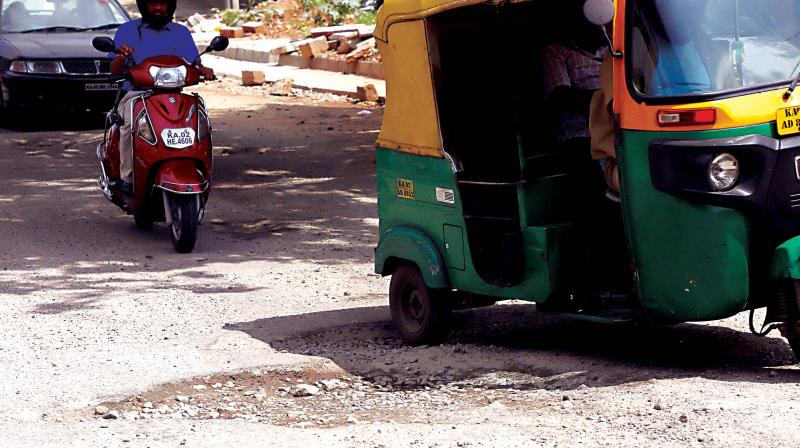pothole: (93, 353, 412, 434), (433, 358, 583, 395), (272, 311, 412, 350), (214, 190, 299, 253)
